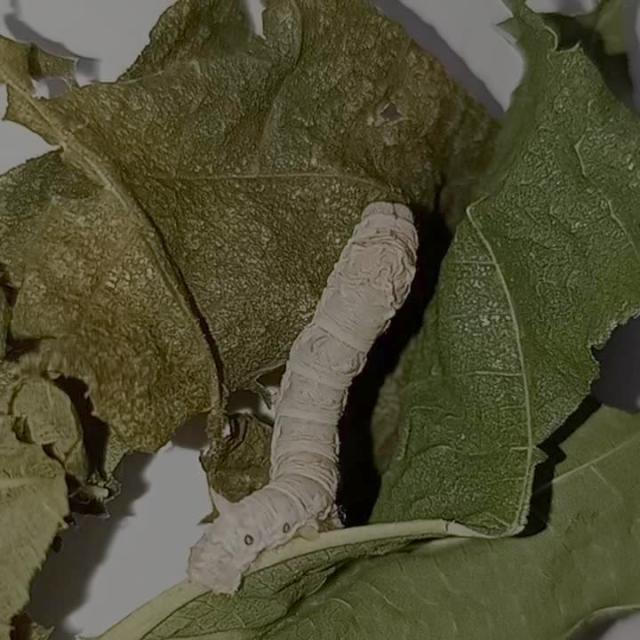Healthy: (172, 184, 441, 609)
